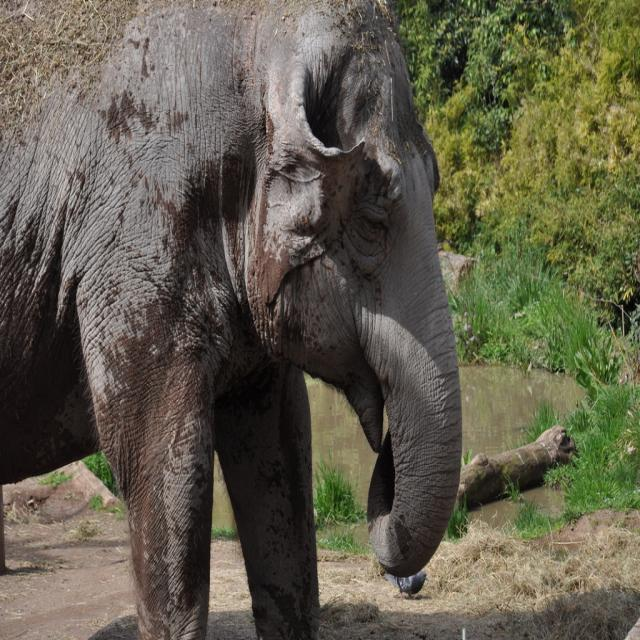Elephant: (8, 0, 472, 640)
